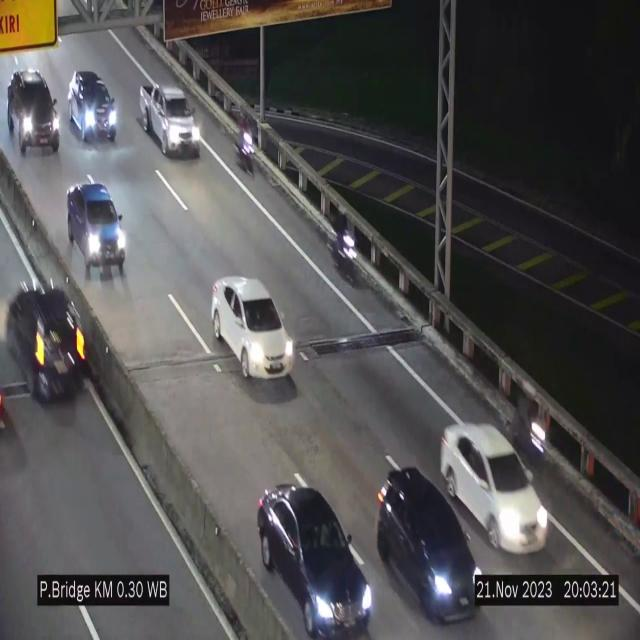Car: (249, 482, 376, 640), (375, 461, 482, 628), (439, 424, 548, 552), (6, 272, 90, 396), (211, 276, 294, 378), (68, 182, 128, 280), (137, 77, 203, 162), (6, 65, 60, 157), (69, 71, 118, 141)
Motorcycle: (514, 378, 546, 469), (326, 198, 356, 280), (233, 108, 257, 178)
